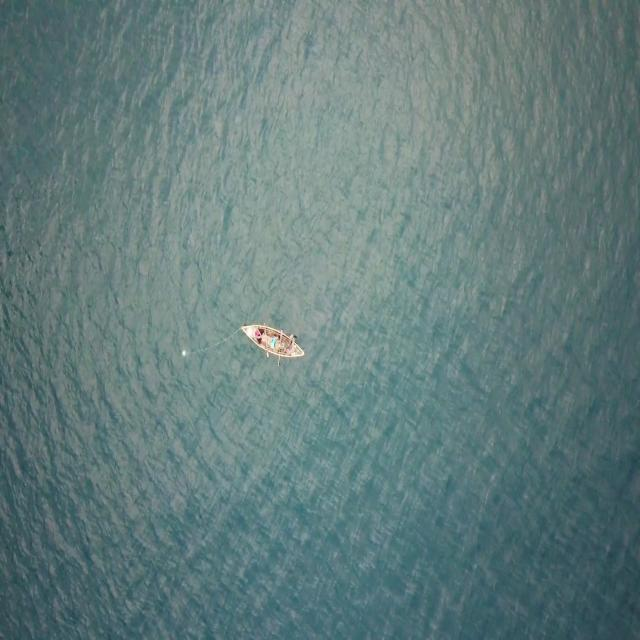ship: (236, 312, 309, 365)
